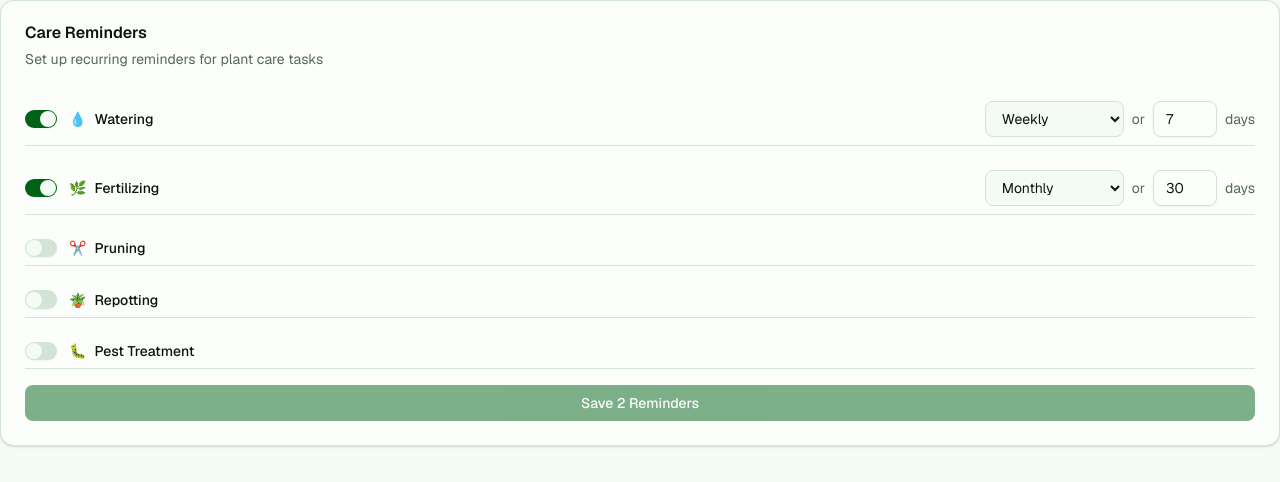
Test: CareScheduleForm › should enable save button when a toggle changes
Click the switch named "pruning" next to "Pruning".
click(41, 248)  # box [25,239,57,257]
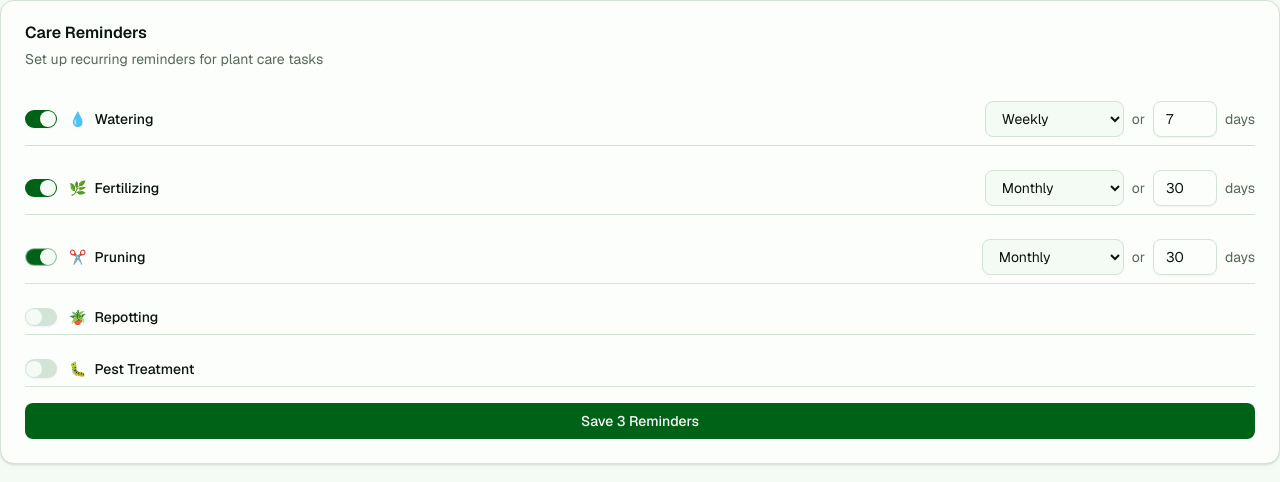
Check: the button "Save 3 Reminders" is enabled, box [25,403,1255,439]
